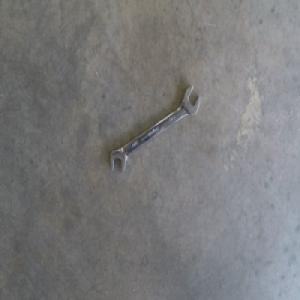Wrench: (109, 79, 199, 173)
